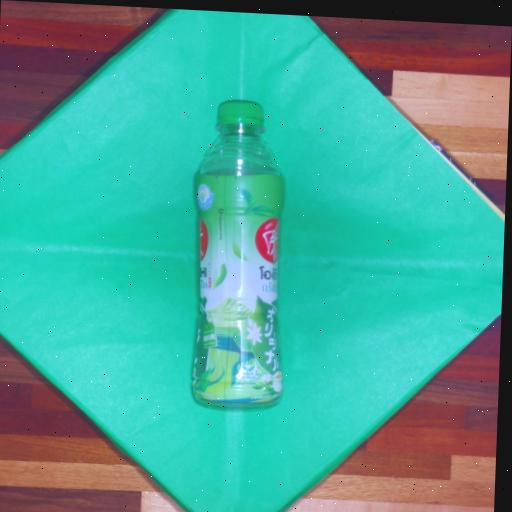bottle: (192, 101, 283, 406)
